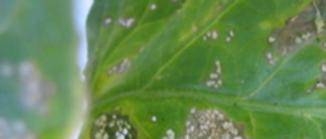Tomato Septoria leaf spot: (37, 0, 326, 139)
